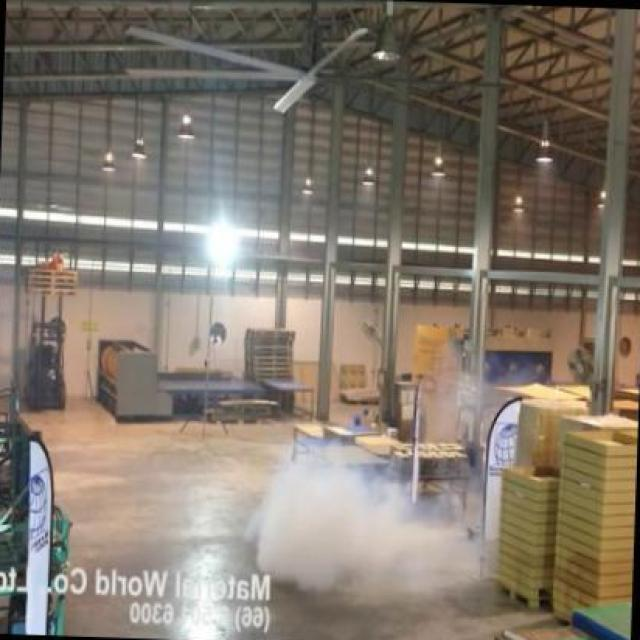fire: (254, 455, 473, 600)
